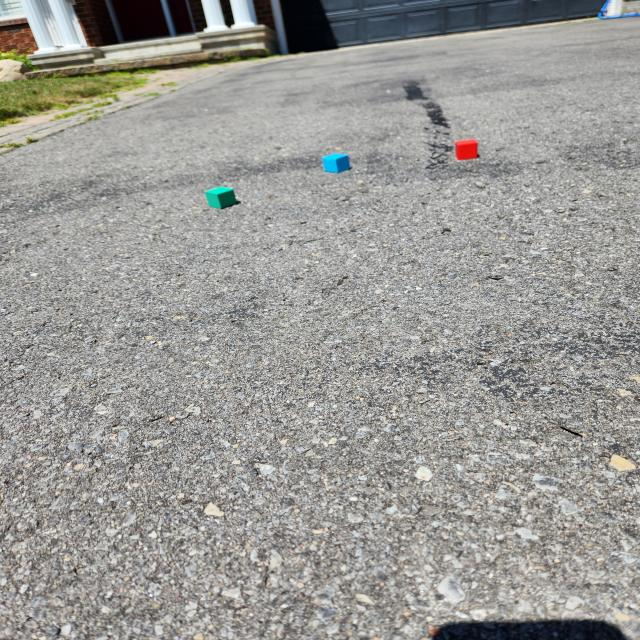bluecube: (323, 152, 351, 175)
green cube: (205, 185, 237, 209)
red cube: (454, 138, 479, 160)
